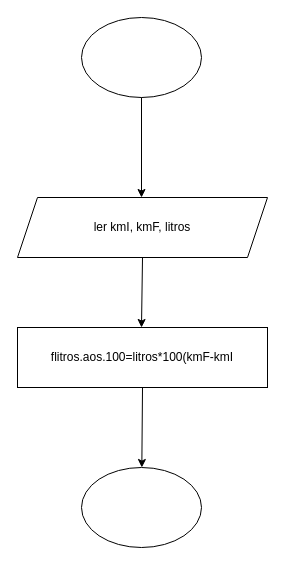
Image size: 285x565. Some labels were removed from this diagram. The centre of each missing label's shape, as x and y in pixels:
fim: pixel 141 507
inicio: pixel 141 57
